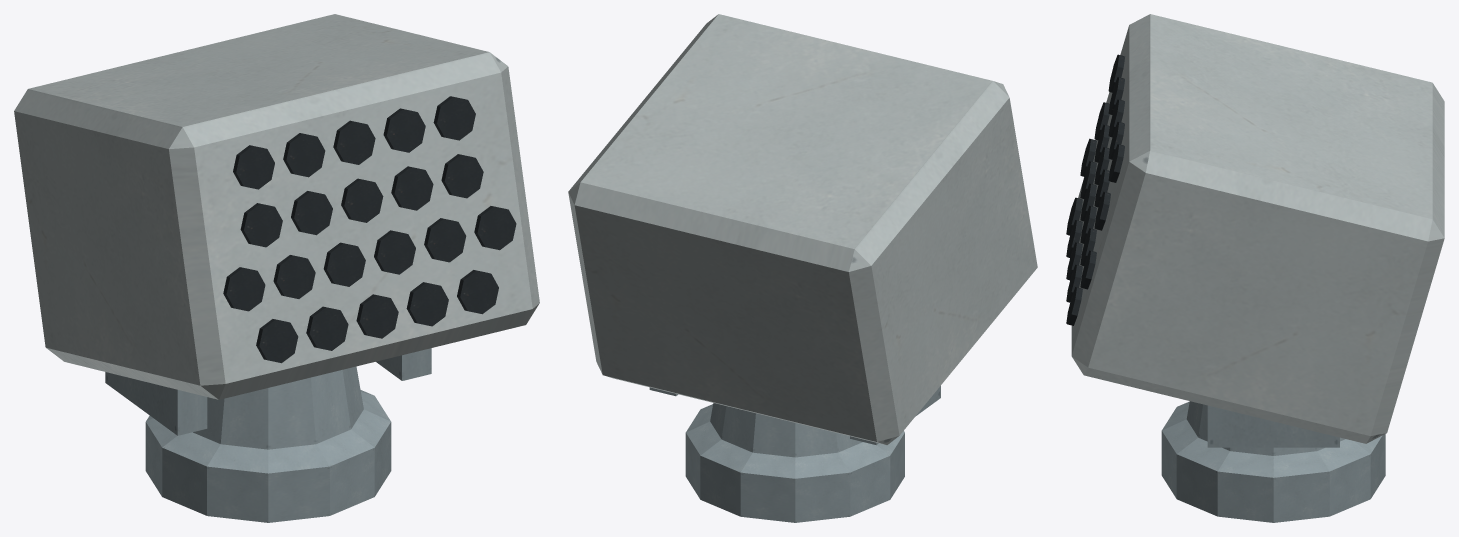
The model's file is mount_gepard_pdms_metric.glb.
3 renders of one model, left to right at view 1: azimuth 30°, elevation 25°; view 2: azimuth 150°, elevation 25°; view 3: azimuth 270°, elevation 25°, orthographic. The views are drawn at different scales.
Parts seen in each view (by area): view 1: MESH_GEPARD_TEMPLATE_pdms.006; view 2: MESH_GEPARD_TEMPLATE_pdms.006; view 3: MESH_GEPARD_TEMPLATE_pdms.006.
Boxes of the visible parts, x1,y1,x2,y2 form: MESH_GEPARD_TEMPLATE_pdms.006: (14, 14, 539, 522); MESH_GEPARD_TEMPLATE_pdms.006: (568, 14, 1037, 522); MESH_GEPARD_TEMPLATE_pdms.006: (1066, 14, 1444, 522).
Size of the model in its own units: 2.3 by 2.79 by 2.43.
Materials: 1 (1 with a texture image).
